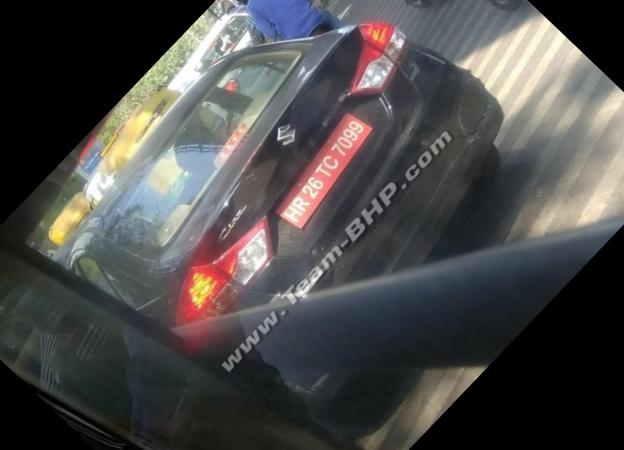plate: (257, 105, 392, 243)
